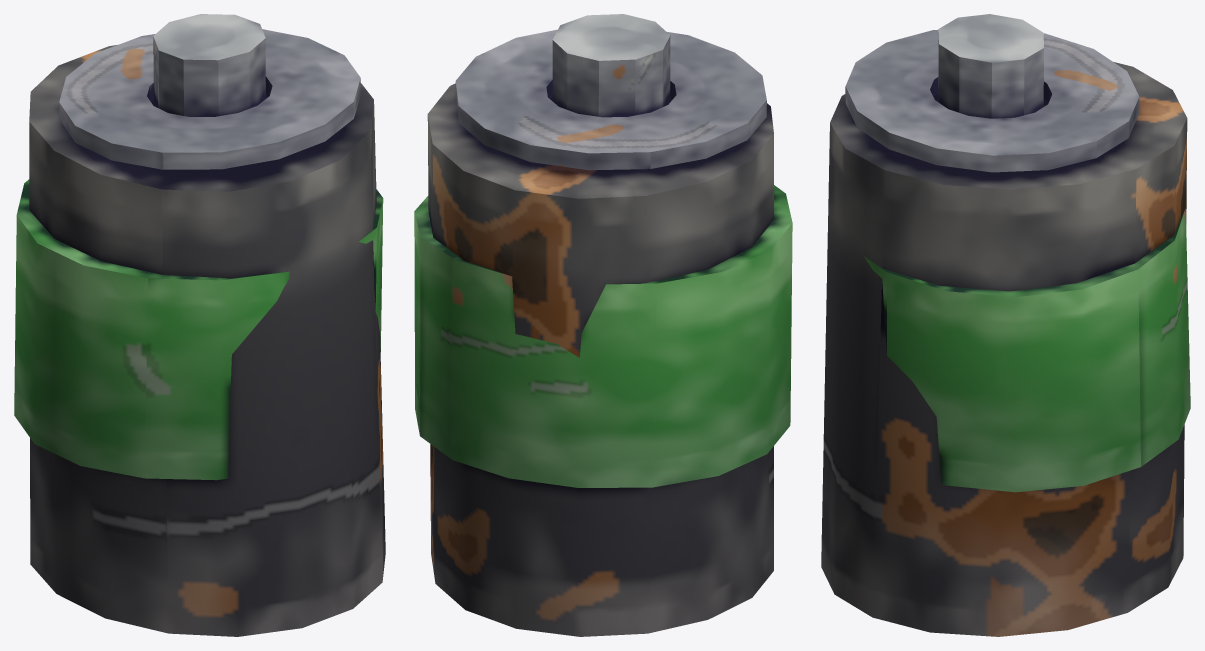
The model's file is OldBattery.glb.
3 renders of one model, left to right at view 1: azimuth 30°, elevation 25°; view 2: azimuth 150°, elevation 25°; view 3: azimuth 270°, elevation 25°, orthographic.
Visible parts, largest first — view 1: Cell, Label, Terminal; view 2: Cell, Label, Terminal; view 3: Cell, Label, Terminal.
Boxes of the visible parts, x1,y1,x2,y2 form: Cell: [29, 45, 385, 636]; Label: [14, 179, 383, 480]; Terminal: [59, 14, 360, 169]; Cell: [427, 83, 773, 636]; Label: [414, 185, 792, 487]; Terminal: [455, 14, 766, 170]; Cell: [821, 62, 1187, 636]; Label: [864, 207, 1190, 492]; Terminal: [845, 14, 1139, 172].
Size of the model in its own units: 0.6124 by 0.9401 by 0.5985.
3 materials, 3 textured.
